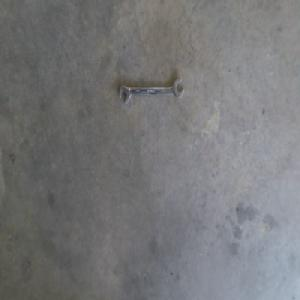Wrench: (118, 78, 185, 106)
